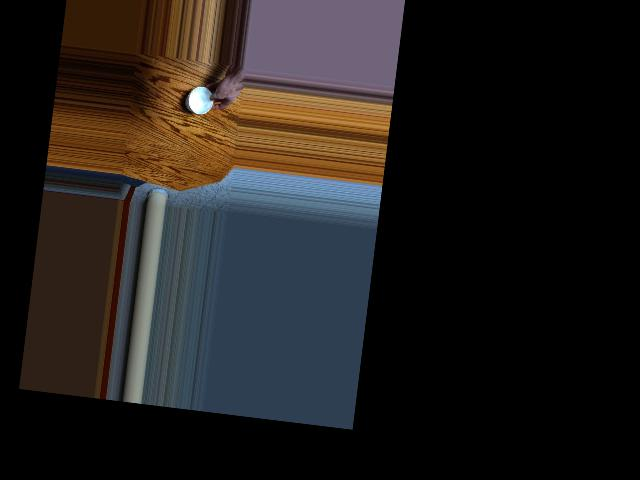cotage: (181, 85, 215, 120)
